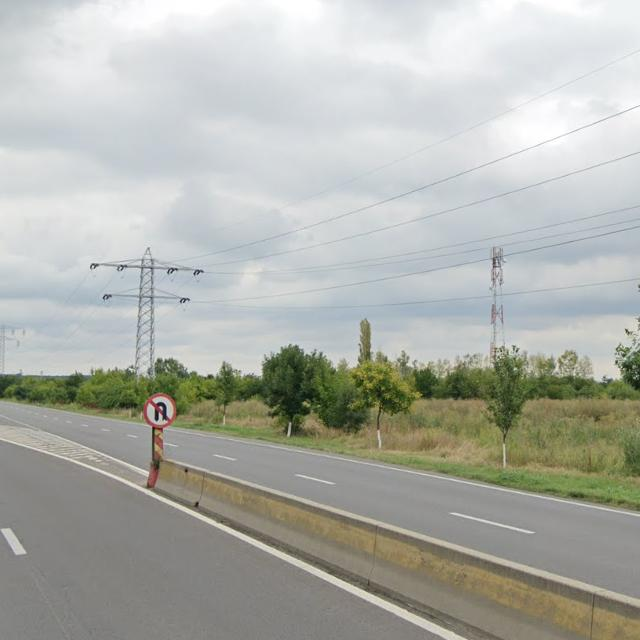forb_u_turn: (142, 393, 176, 428)
